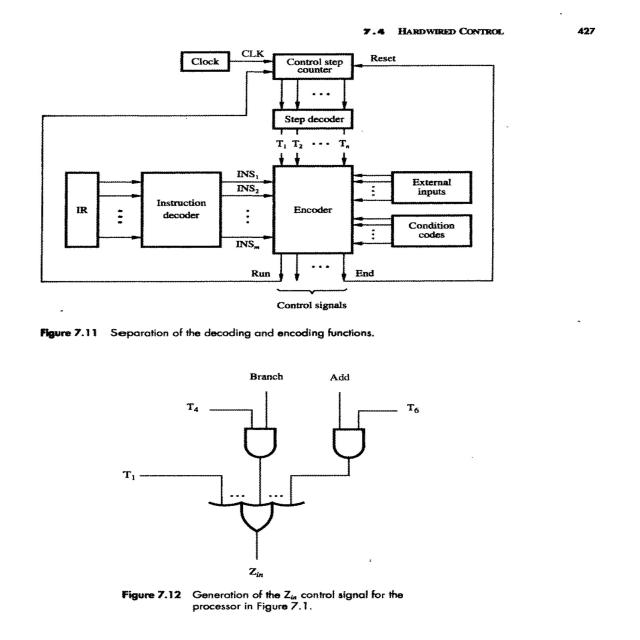diagram: (0, 34, 601, 628)
